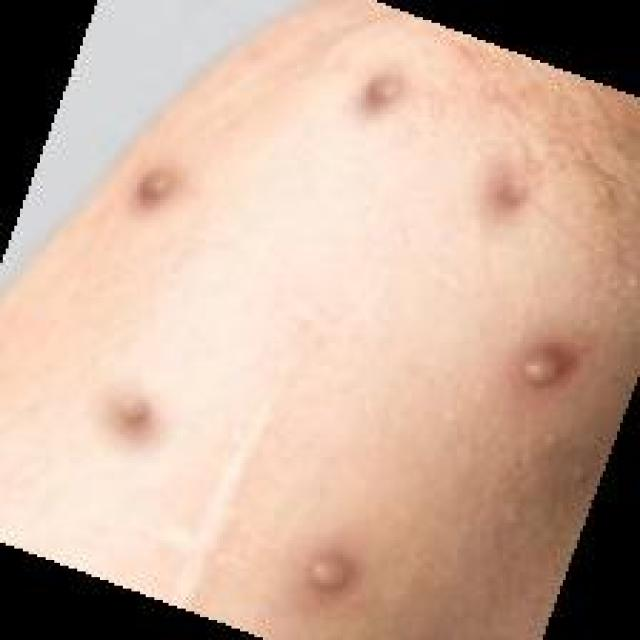monkeypox: (48, 4, 599, 640)
